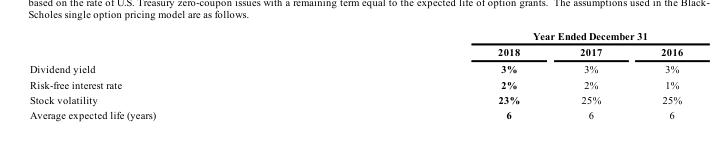table: (29, 29, 682, 120)
table column: (29, 29, 326, 120), (326, 29, 549, 120), (549, 29, 630, 120), (630, 29, 682, 120)
table column header: (29, 29, 682, 60)
table row: (29, 43, 682, 60), (29, 60, 682, 76), (29, 76, 682, 91), (29, 91, 682, 106), (29, 29, 682, 43), (29, 106, 682, 120)
table spanning cell: (326, 29, 682, 43)
